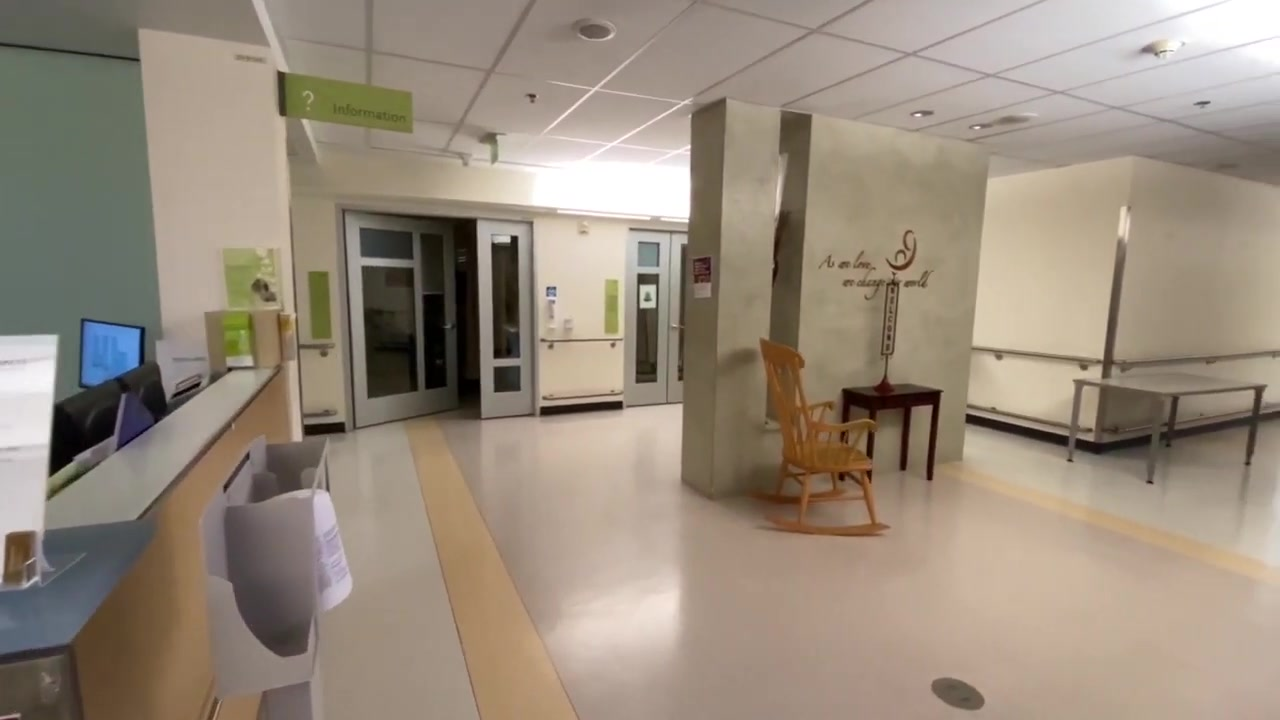chair: (747, 337, 890, 540)
computer: (51, 362, 168, 477), (70, 318, 151, 387)
counter: (1, 384, 278, 720)
countertop: (1, 362, 274, 652)
dispenser: (546, 298, 561, 330)
door_handle: (671, 323, 685, 332), (440, 323, 454, 331)
hallway_assist_bar: (1121, 397, 1275, 442), (1112, 344, 1280, 381), (972, 338, 1114, 377), (966, 399, 1098, 438), (543, 335, 623, 346), (545, 393, 625, 403), (298, 341, 339, 354), (304, 407, 343, 419)
table: (1065, 371, 1269, 487), (841, 382, 944, 488)
